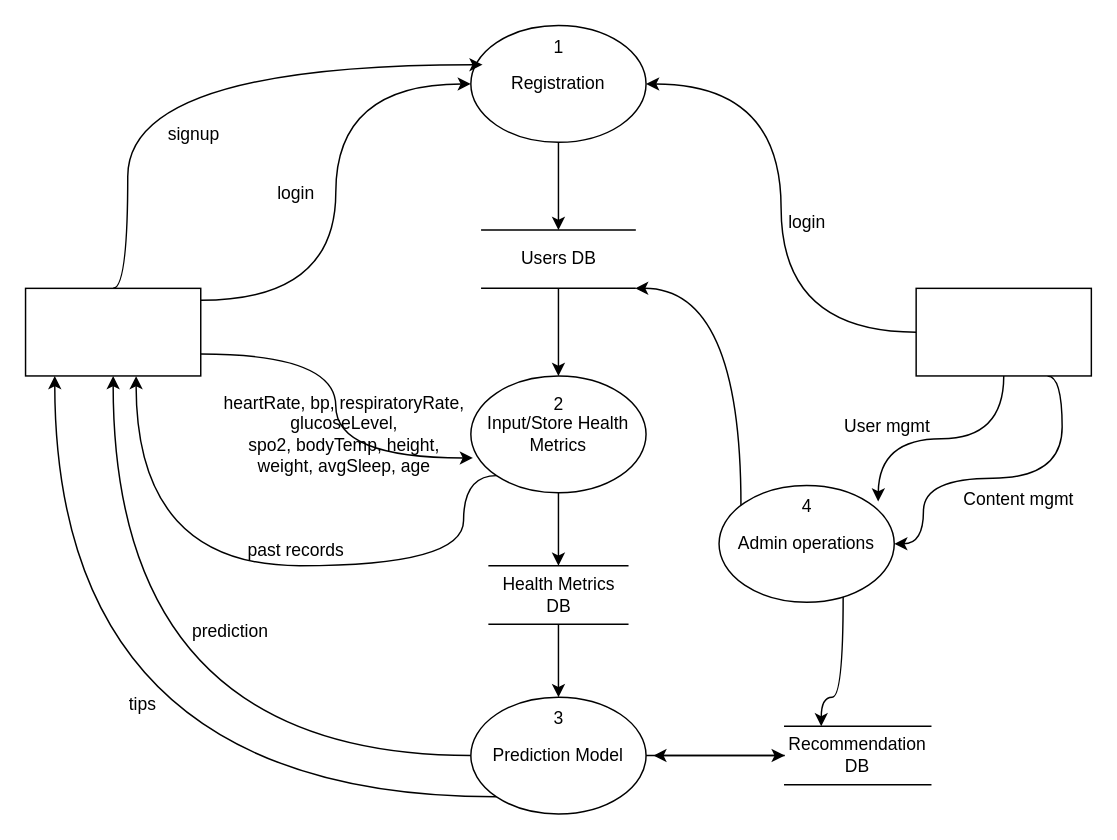
This 1117x840 diagram has some shape labels left out. The shapes that lost their labels are listed below. From the top down, each one's centre as x and y in pixels, then its label:
(112,331): User
(1003,331): Admin
